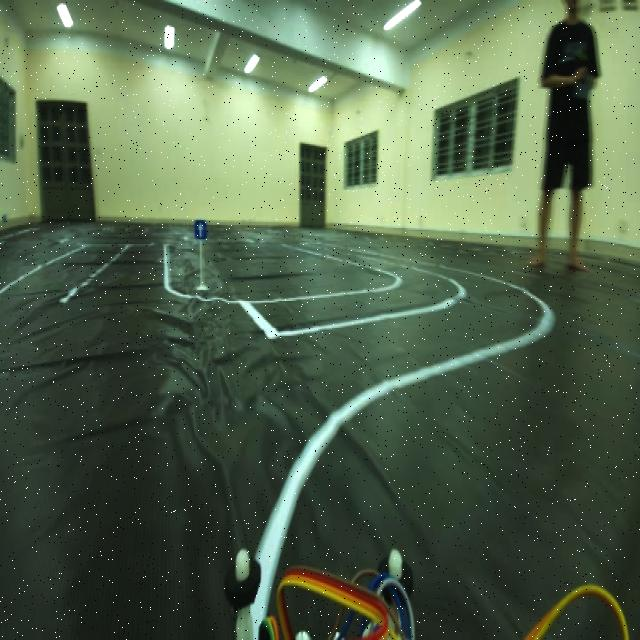onewayroad: (191, 215, 207, 243)
